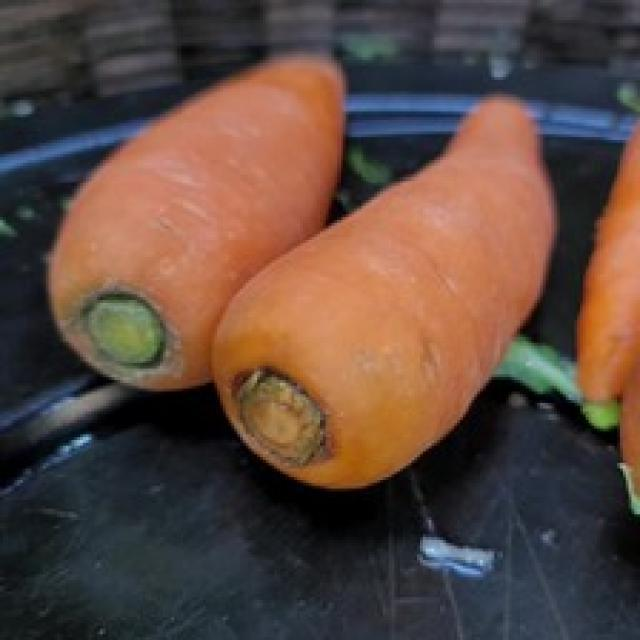carrot: (214, 99, 562, 491), (48, 45, 344, 390)
